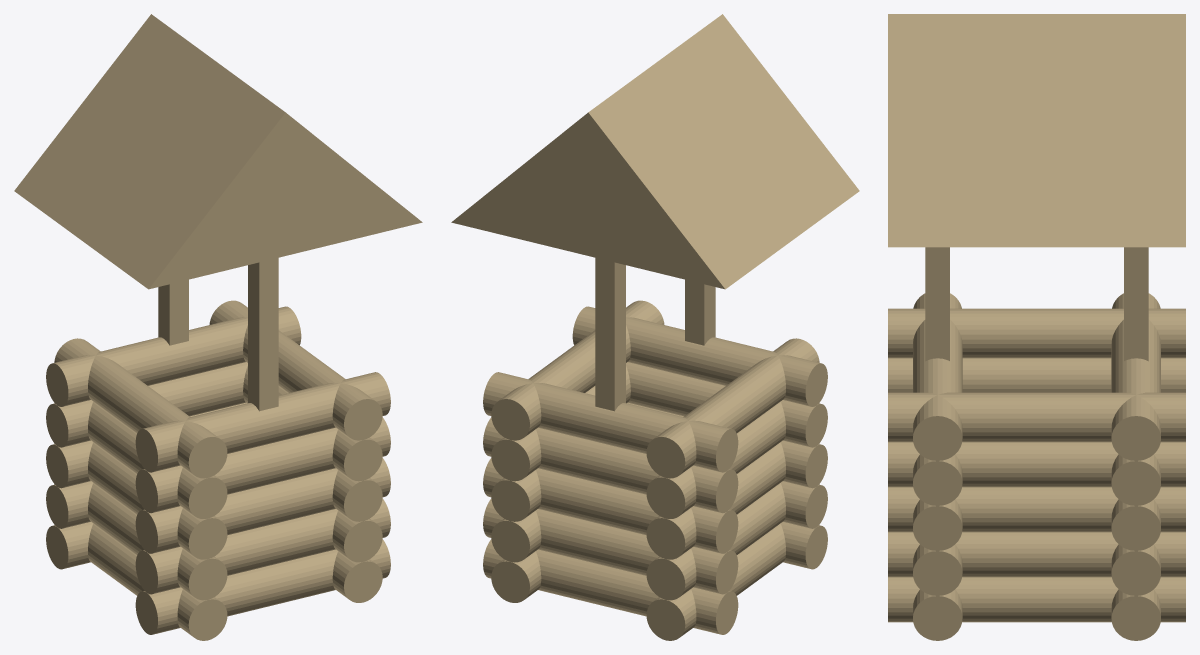
File: water.glb
3 renders of one model, left to right at view 1: azimuth 30°, elevation 25°; view 2: azimuth 150°, elevation 25°; view 3: azimuth 270°, elevation 25°, orthographic. The views are drawn at different scales.
Parts seen in each view (by area): view 1: Куб; view 2: Куб; view 3: Куб.
Part boxes in pixels (left/top/right/bottom): Куб: left=14, top=14, right=422, bottom=640; Куб: left=451, top=14, right=859, bottom=640; Куб: left=888, top=14, right=1185, bottom=640.
Size of the model in its own units: 1.41 by 2.51 by 1.2.
